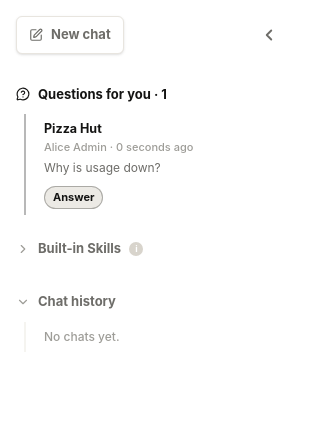
it: CopilotSidebar questions inbox › lists the questions waiting on me and clears one once answered
expect the text "Questions for you · 1" is shown: met, box 16,86 -> 167,102
expect the text "Why is usage down?" is shown: met, box 44,160 -> 161,175
Click the button "Answer": (74, 198) 44,186 -> 104,209
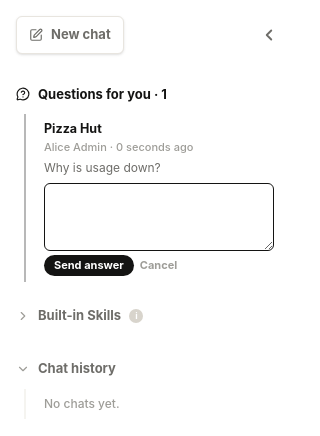
In the text box named "Answer Alice Admin": (159, 217) 44,183 -> 274,251, type "Reporting module."
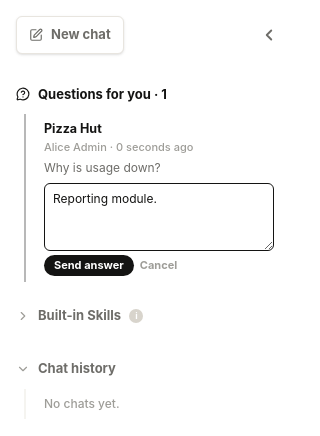
Click the button "Send answer": (89, 266) 44,255 -> 134,276
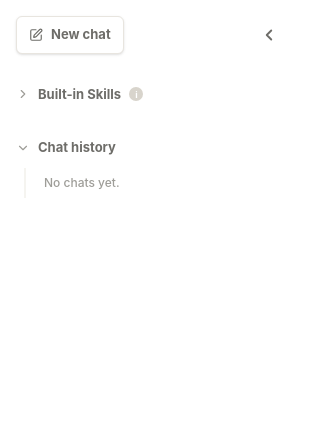
expect the text "Chat history" is shown: met, box 16,139 -> 116,155
expect the text "Questions for you" is gone: met
